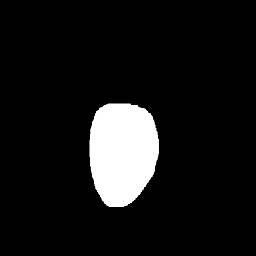mass: (96, 106, 159, 183)
